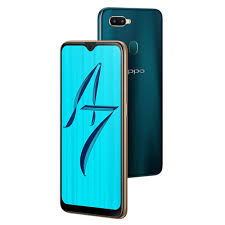oppo: (58, 40, 131, 221), (95, 7, 163, 179)
